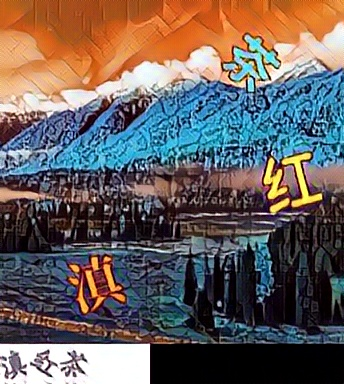B2E8: (219, 32, 281, 96)
B5E1: (65, 249, 127, 313)
BAEC: (261, 150, 323, 214)
